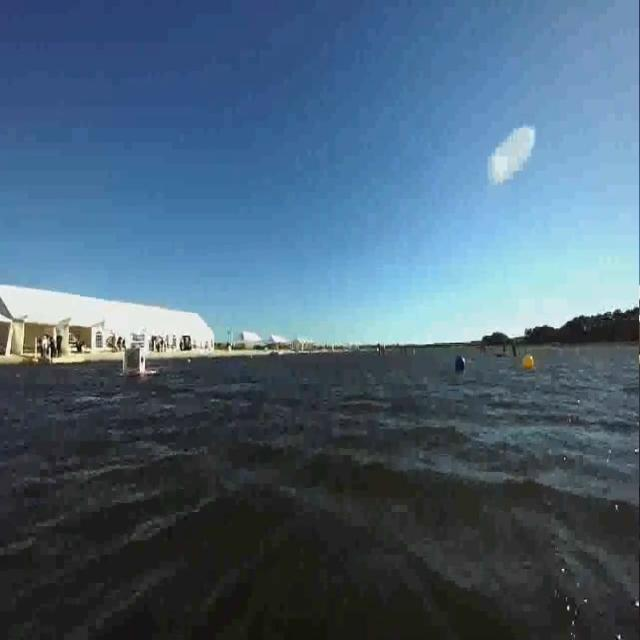black-buoy: (457, 353, 471, 372)
yellow-buoy: (521, 357, 535, 368)
